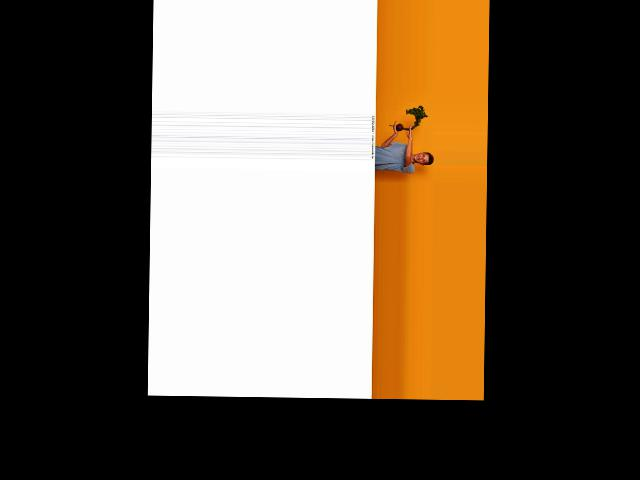beet: (389, 104, 427, 131)
